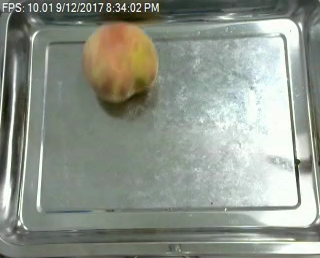Peach: (82, 21, 158, 105)
